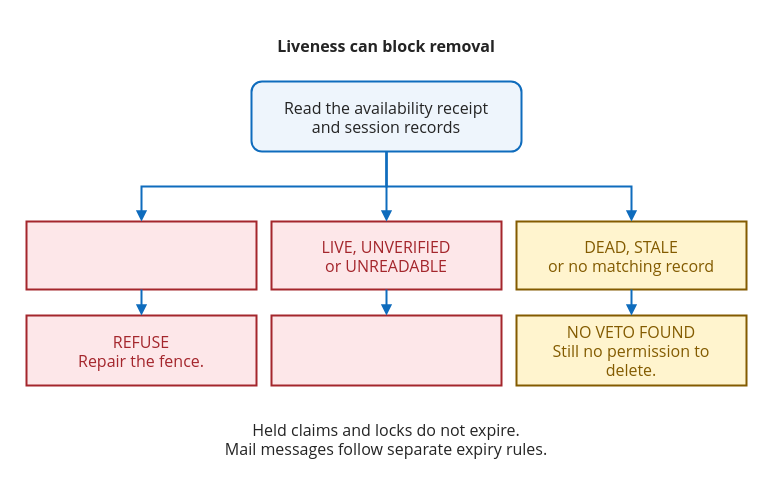
Some shapes in this 773 by 503 pixel diagram are drawn without their labels. The shapes that lost their labels are listed below. From the top down, each one's centre as x and y in pixels, then its label:
At (141,255): "Unavailable scan or unplaceable record".
At (386,350): "VETO Preserve the worktree.".
